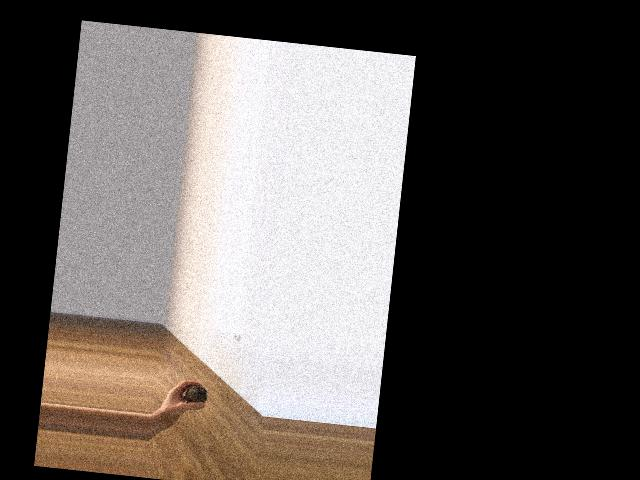beet: (183, 383, 208, 414)
